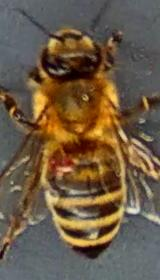varroa_mite: (34, 145, 86, 182)
